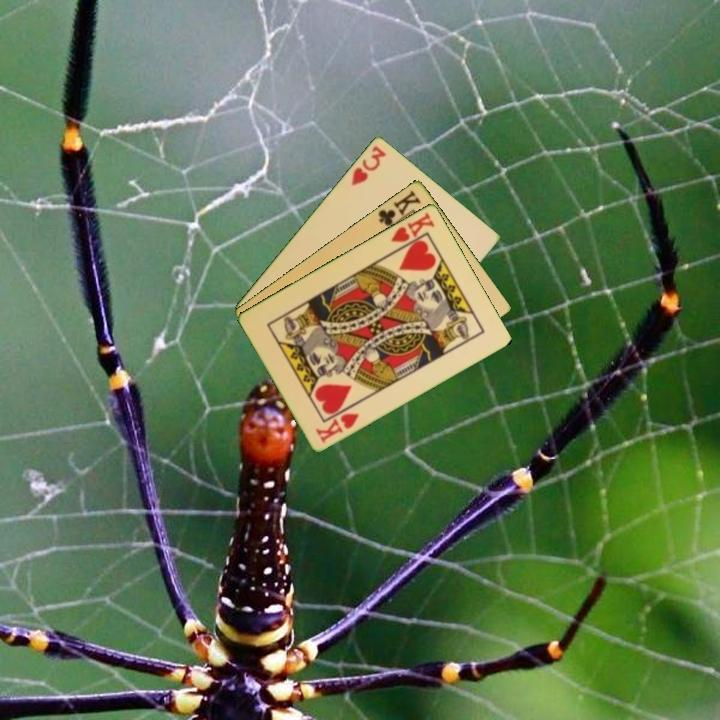3h: (348, 142, 389, 188)
Kc: (374, 186, 424, 234)
Kh: (387, 208, 438, 254), (312, 409, 362, 445)
